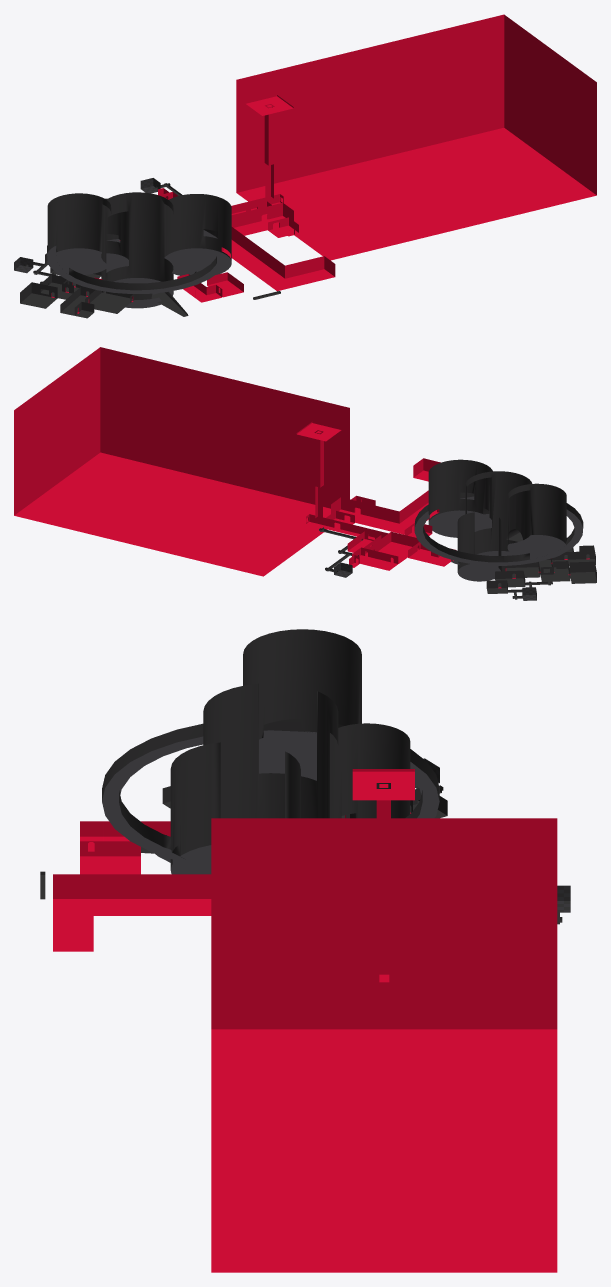
Rendered from level.gltf.
The picture shows the model from 3 angles, top to bottom: view 1: azimuth 30°, elevation 25°; view 2: azimuth 150°, elevation 25°; view 3: azimuth 270°, elevation 25°; orthographic projection. The views are drawn at different scales.
Visible parts, largest first — view 1: CSGBakedMeshInstance3D; view 2: CSGBakedMeshInstance3D; view 3: CSGBakedMeshInstance3D.
Boxes of the visible parts, <box> form: CSGBakedMeshInstance3D: <box>14,14,596,318</box>; CSGBakedMeshInstance3D: <box>14,347,596,600</box>; CSGBakedMeshInstance3D: <box>40,629,570,1272</box>.
Bounding box in the file's own units: 354 × 78.36 × 157.
Materials: 6 (6 with a texture image).
